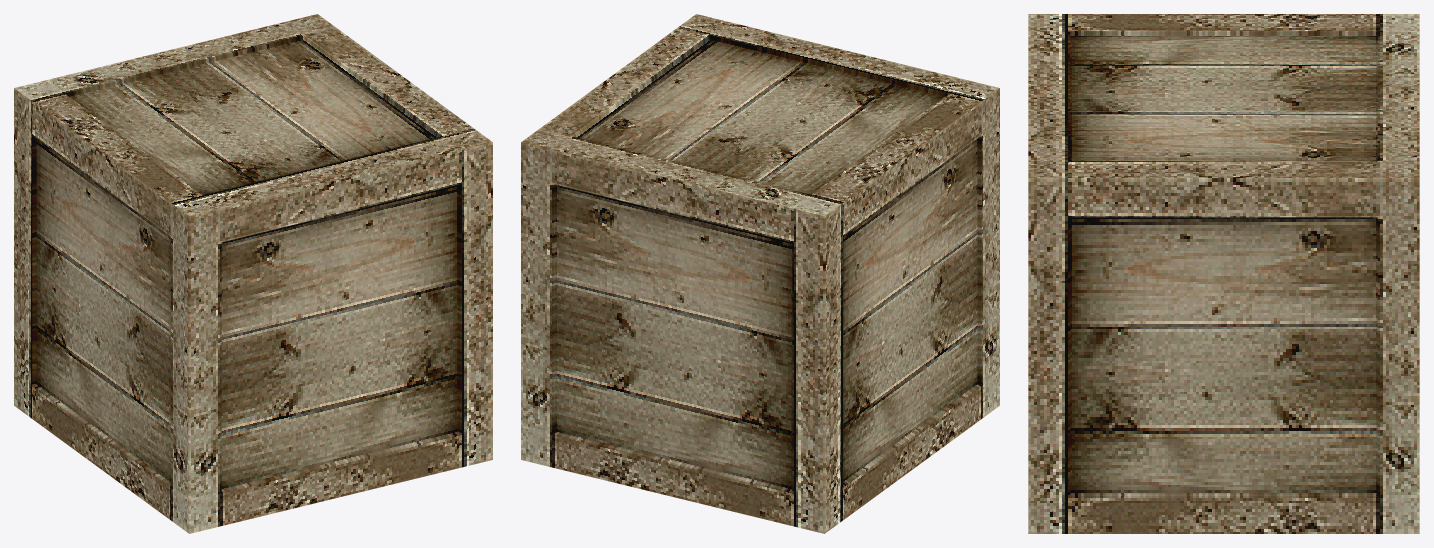
File: crate.gltf
The picture shows the model from 3 angles, left to right: view 1: azimuth 30°, elevation 25°; view 2: azimuth 150°, elevation 25°; view 3: azimuth 270°, elevation 25°; orthographic projection. The views are drawn at different scales.
Visible parts, largest first — view 1: crate; view 2: crate; view 3: crate.
Part boxes in pixels (x1,y1,x2,y2): crate: [14, 14, 492, 533]; crate: [521, 14, 999, 533]; crate: [1028, 14, 1419, 533].
Bounding box in the file's own units: 2 × 2 × 2.
Materials: 1 (1 with a texture image).
